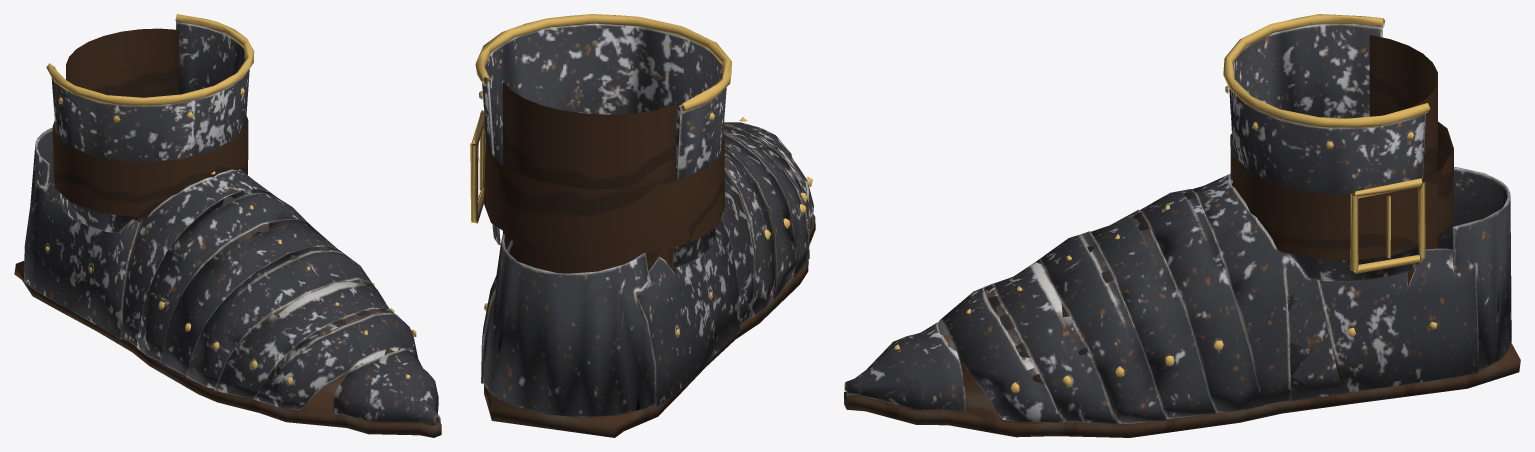
File: SM_EagleSabatons_L_LOD2.fbx
3 views of the same model, side by side, from view 1: azimuth 30°, elevation 25°; view 2: azimuth 150°, elevation 25°; view 3: azimuth 270°, elevation 25° (orthographic). The views are drawn at different scales.
Parts seen in each view (by area): view 1: SM_EagleSabatons_L_LOD2; view 2: SM_EagleSabatons_L_LOD2; view 3: SM_EagleSabatons_L_LOD2.
Boxes of the visible parts, bbox=[...] form: SM_EagleSabatons_L_LOD2: bbox=[14, 14, 441, 437]; SM_EagleSabatons_L_LOD2: bbox=[470, 14, 815, 437]; SM_EagleSabatons_L_LOD2: bbox=[844, 14, 1520, 437].
Size of the model in its own units: 0.1356 by 0.1414 by 0.2938.
